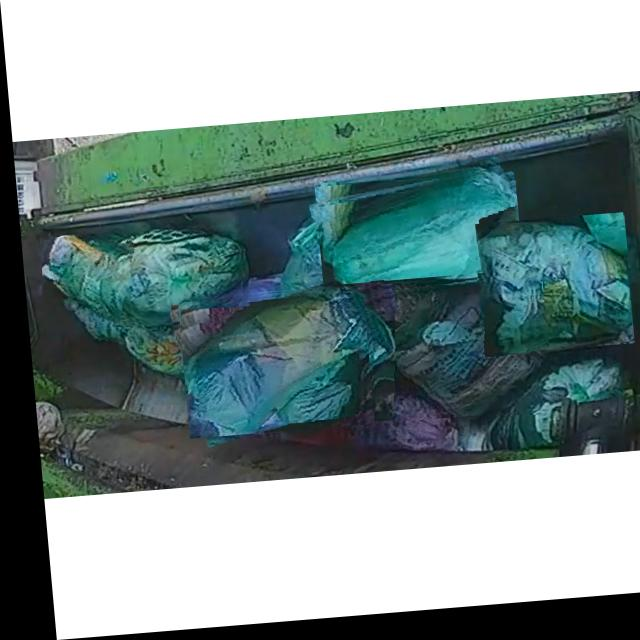general_trashbag: (177, 293, 377, 439), (359, 292, 530, 424), (323, 179, 516, 290), (472, 230, 625, 358), (102, 231, 238, 326), (38, 236, 124, 325)
